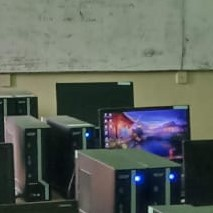monitor: (98, 105, 191, 161), (55, 81, 135, 127), (183, 140, 213, 205)
